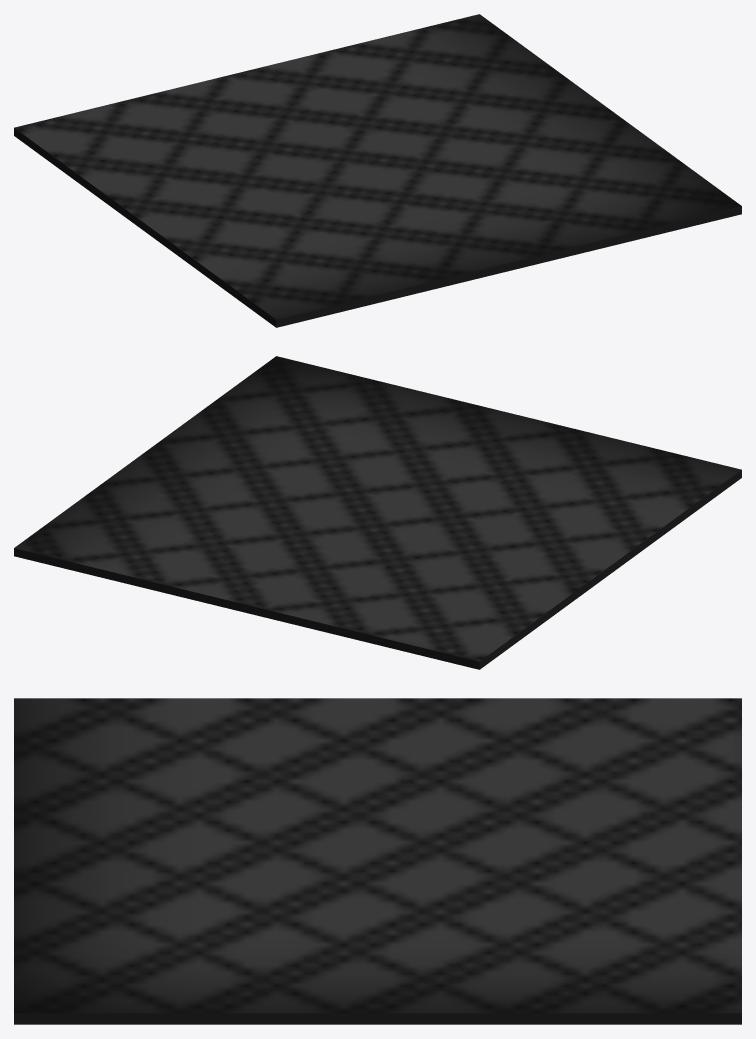
File: Mousepad.FBX
3 renders of one model, top to bottom at view 1: azimuth 30°, elevation 25°; view 2: azimuth 150°, elevation 25°; view 3: azimuth 270°, elevation 25°, orthographic. The views are drawn at different scales.
Parts seen in each view (by area): view 1: Mouse_Pad; view 2: Mouse_Pad; view 3: Mouse_Pad.
Part boxes in pixels (box(x1,y1,x2,y2)): Mouse_Pad: box(14, 14, 741, 327); Mouse_Pad: box(14, 356, 741, 669); Mouse_Pad: box(14, 698, 741, 1024).
Bounding box in the file's own units: 47.44 × 0.7947 × 46.3.
